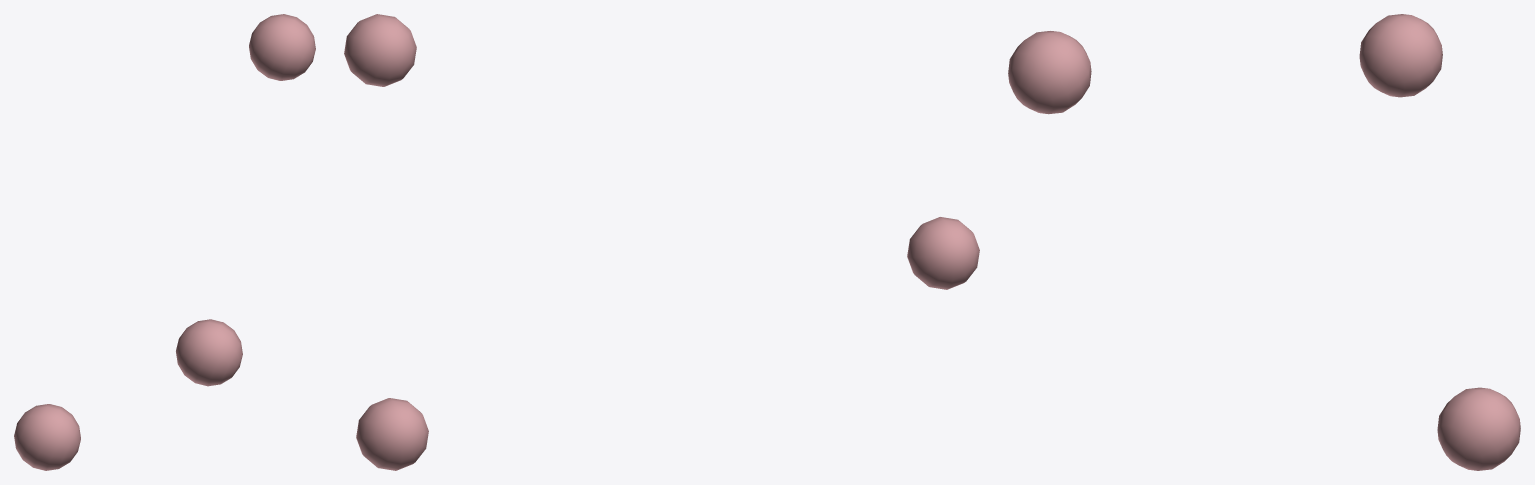
3 renders of one model, left to right at view 1: azimuth 30°, elevation 25°; view 2: azimuth 150°, elevation 25°; view 3: azimuth 270°, elevation 25°, orthographic. The views are drawn at different scales.
Parts seen in each view (by area): view 1: ZA_68f7d5acff9765f8; view 2: ZA_68f7d5acff9765f8; view 3: ZA_68f7d5acff9765f8.
Part boxes in pixels (x1,y1,x2,y2): ZA_68f7d5acff9765f8: [14, 14, 315, 470]; ZA_68f7d5acff9765f8: [344, 14, 979, 470]; ZA_68f7d5acff9765f8: [1008, 14, 1520, 470].
Bounding box in the file's own units: 0.0193 × 0.0161 × 0.0158.
